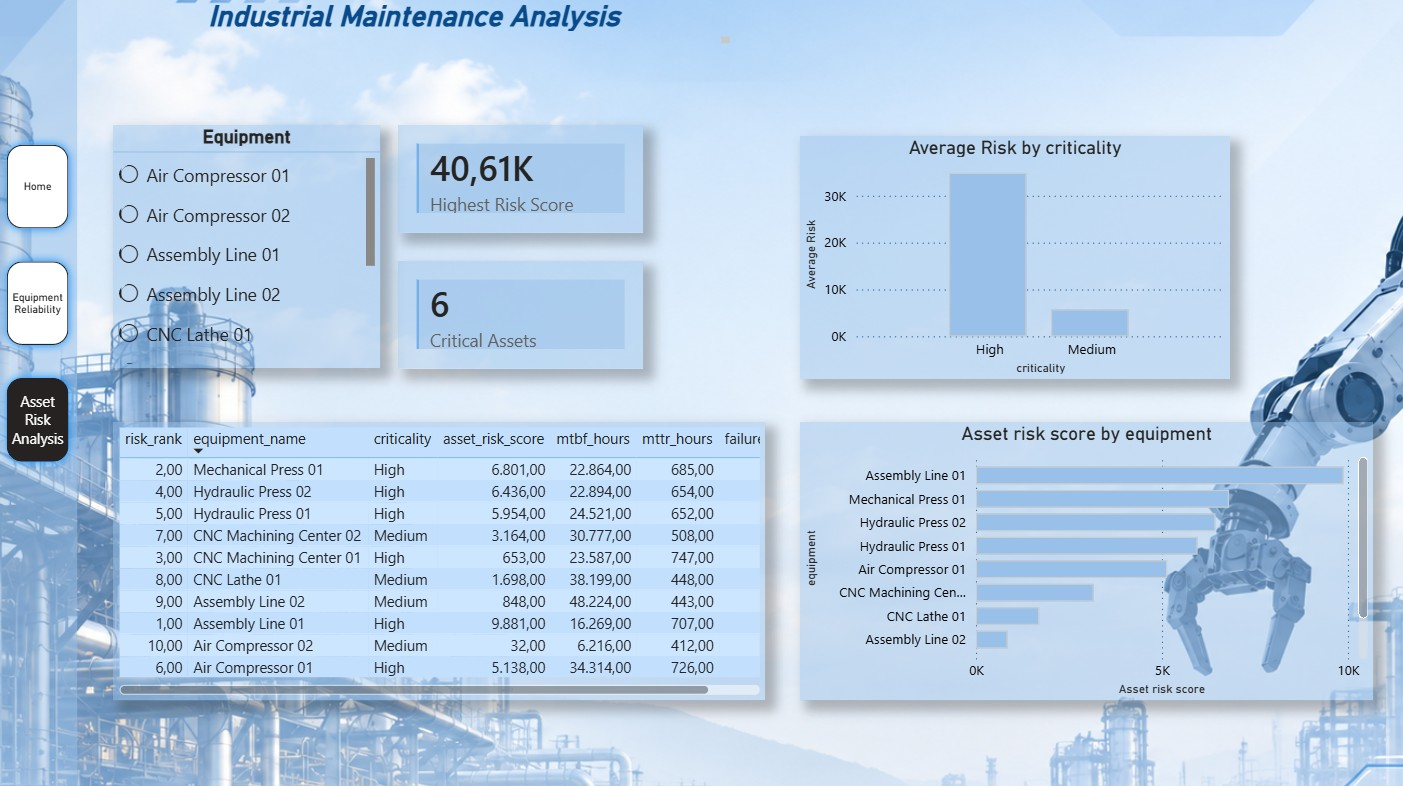

What the dashboard file says about the page in this screenshot:
{"tool":"powerbi","page":{"name":"Asset Risk Analysis","canvas":[1280,720],"ordinal":2},"visuals":[{"type":"clusteredBarChart","fields":{"Category":["asset_risk_ranking.equipment_name"],"Y":["Sum(asset_risk_ranking.asset_risk_score)"]},"box":[728.9,385.6,521.1,253.3],"z":0},{"type":"tableEx","fields":{"Values":["asset_risk_ranking.risk_rank","asset_risk_ranking.equipment_name","asset_risk_ranking.criticality","asset_risk_ranking.asset_risk_score","asset_risk_ranking.mtbf_hours","asset_risk_ranking.mttr_hours","asset_risk_ranking.failure_count"]},"box":[104.4,385.6,593.3,253.3],"z":1000},{"type":"cardVisual","fields":{"Data":["Sum(asset_risk_ranking.asset_risk_score)"]},"box":[363.3,115.6,223.3,97.8],"z":2000},{"type":"cardVisual","fields":{"Data":["equipment_master.Critical Assets"]},"box":[363.3,238.9,223.3,97.8],"z":3000},{"type":"columnChart","fields":{"Category":["equipment_master.criticality"],"Y":["Sum(asset_risk_ranking.asset_risk_score)"]},"box":[728.9,125.6,391.1,221.1],"z":5000},{"type":"shape","box":[0,0,72.2,718.9],"z":6000},{"type":"pageNavigator","box":[0,125.6,72.2,305.6],"z":7000},{"type":"textbox","title":"Industrial Maintenance Analysis","box":[186.7,0,484.4,45.6],"z":8000},{"type":"listSlicer","fields":{"Values":["equipment_master.equipment_name"]},"box":[104.4,115.6,243.3,221.1],"z":9000}]}

Visuals, with their boxes in screenshot pixels (x1, y1, x2, y2), scaled from the page's 1280x720 canvas onto the 1403x786 screenshot:
clusteredBarChart - asset_risk_ranking.equipment_name x Sum(asset_risk_ranking.asset_risk_score): rect(799, 421, 1370, 697)
tableEx - asset_risk_ranking.risk_rank x asset_risk_ranking.equipment_name: rect(114, 421, 765, 697)
cardVisual - Sum(asset_risk_ranking.asset_risk_score): rect(398, 126, 643, 233)
cardVisual - equipment_master.Critical Assets: rect(398, 261, 643, 368)
columnChart - equipment_master.criticality x Sum(asset_risk_ranking.asset_risk_score): rect(799, 137, 1228, 378)
shape: rect(0, 0, 79, 785)
pageNavigator: rect(0, 137, 79, 471)
"Industrial Maintenance Analysis" textbox: rect(205, 0, 736, 50)
listSlicer - equipment_master.equipment_name: rect(114, 126, 381, 368)
